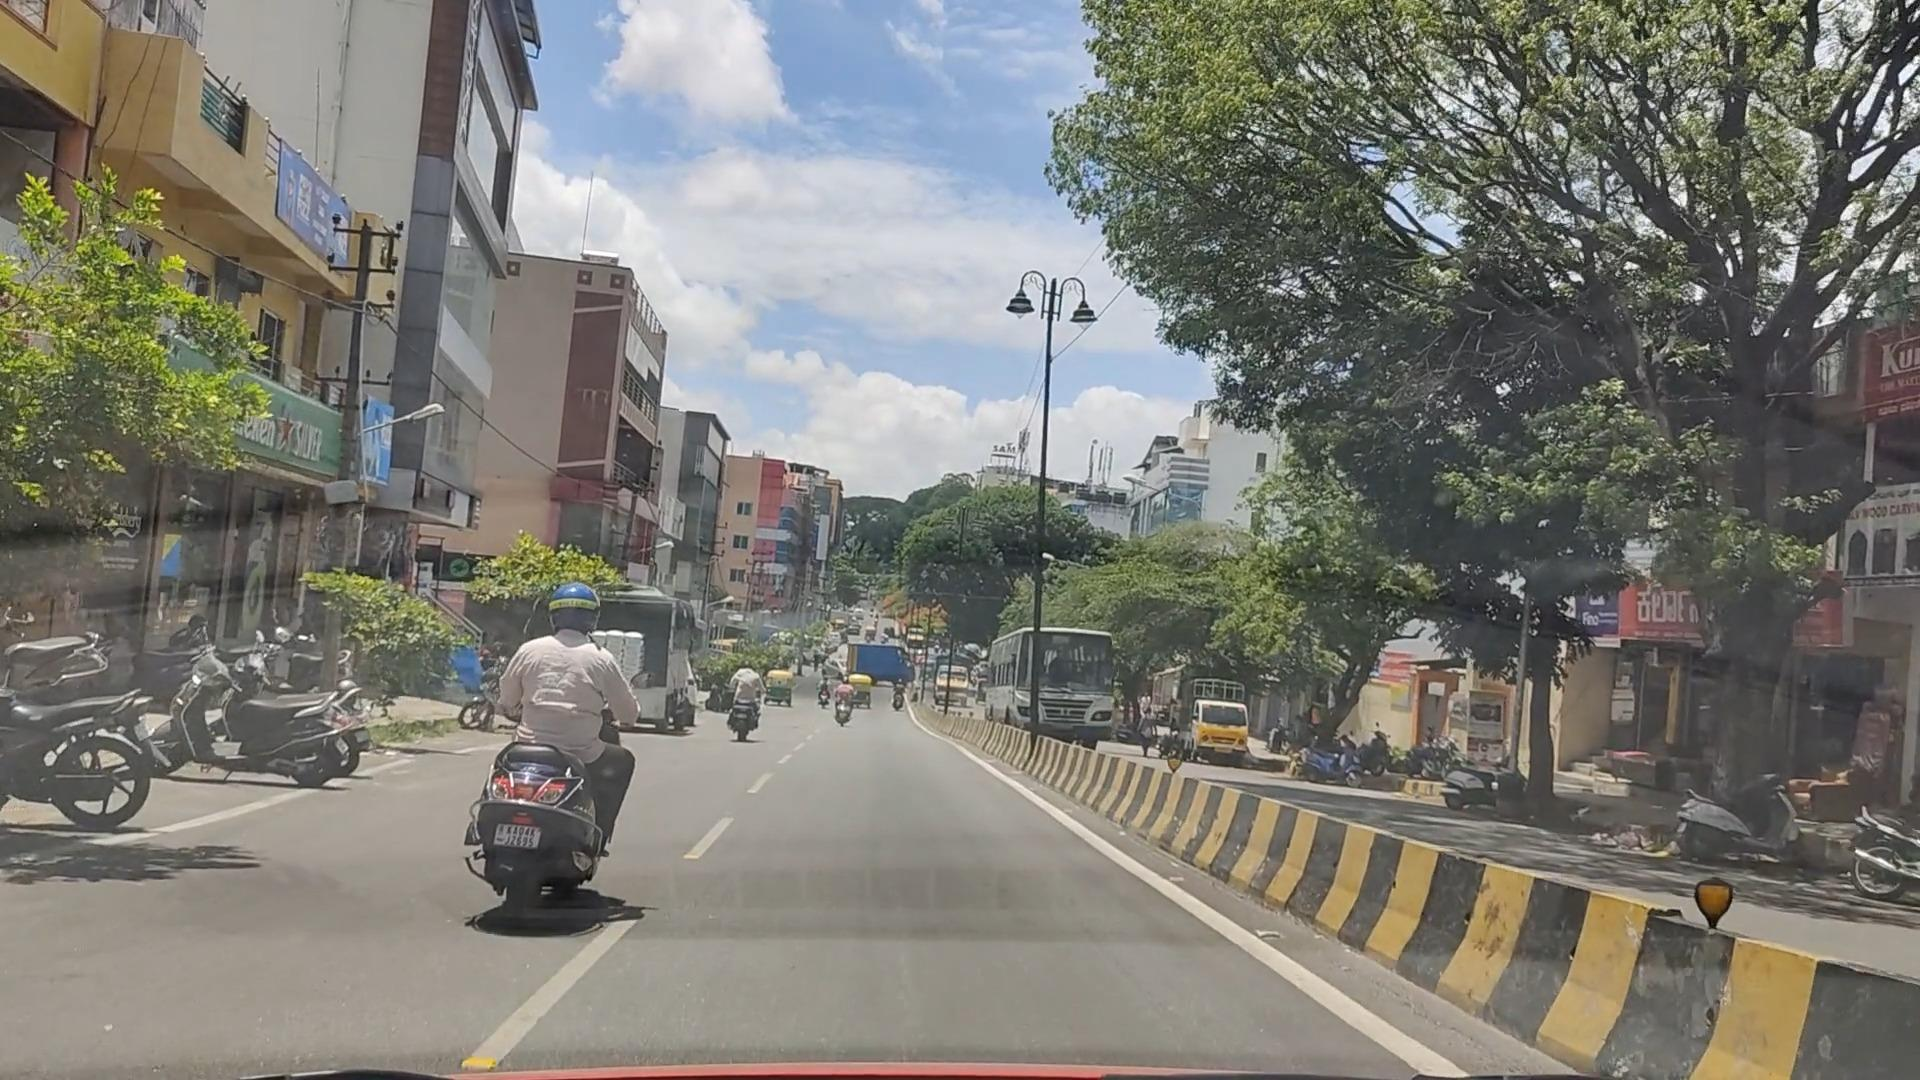LMV: (446, 568, 649, 943)
